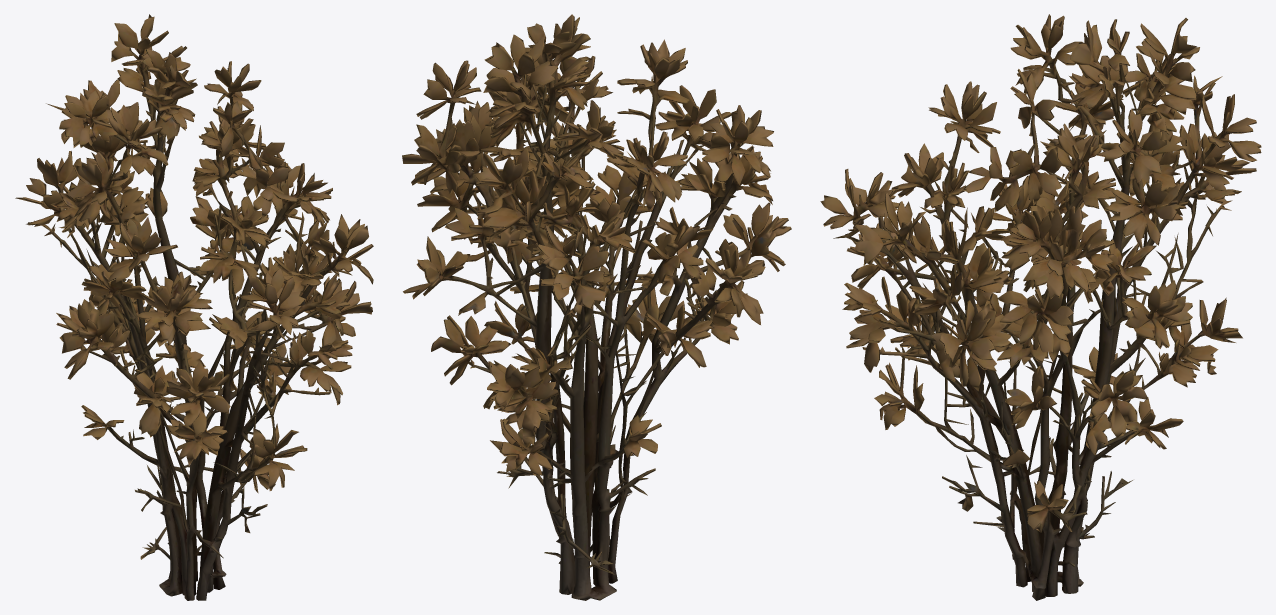
Rendered from shrub-dry-scrub.glb.
3 views of the same model, side by side, from view 1: azimuth 30°, elevation 25°; view 2: azimuth 150°, elevation 25°; view 3: azimuth 270°, elevation 25° (orthographic). The views are drawn at different scales.
Visible parts, largest first — view 1: tripo_node_97b19e21-6de4-4fc4-8496-7b46c88cf3fa; view 2: tripo_node_97b19e21-6de4-4fc4-8496-7b46c88cf3fa; view 3: tripo_node_97b19e21-6de4-4fc4-8496-7b46c88cf3fa.
Boxes of the visible parts, left/top/right/bottom form: tripo_node_97b19e21-6de4-4fc4-8496-7b46c88cf3fa: left=15, top=14, right=373, bottom=600; tripo_node_97b19e21-6de4-4fc4-8496-7b46c88cf3fa: left=402, top=14, right=791, bottom=600; tripo_node_97b19e21-6de4-4fc4-8496-7b46c88cf3fa: left=820, top=14, right=1261, bottom=600.
Size of the model in its own units: 0.689 by 1.2 by 0.8498.
Materials: 1 (1 with a texture image).
